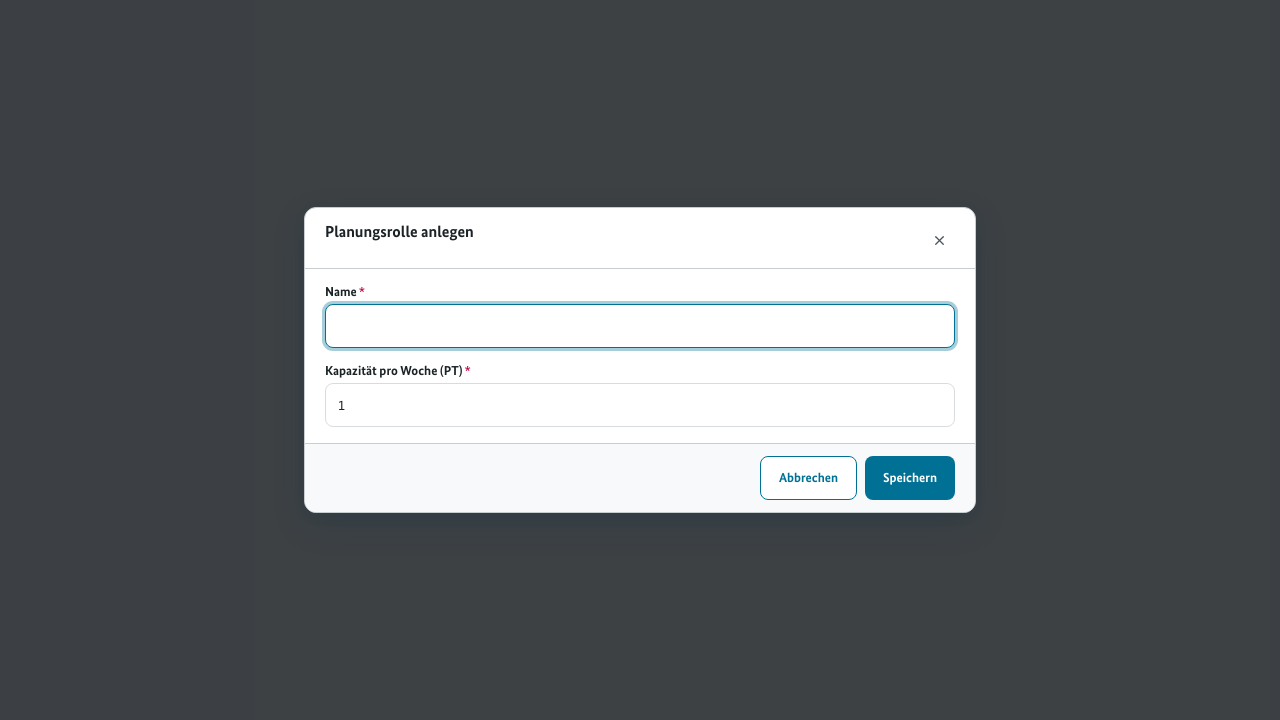
PlanningRoleFormDialog › shows server error when create mutation rejects
Check: the dialog is shown, box [304,207,976,513]
Type "Unique Role" into the field labelled "Name*" at (640, 326), box [325,304,955,348]
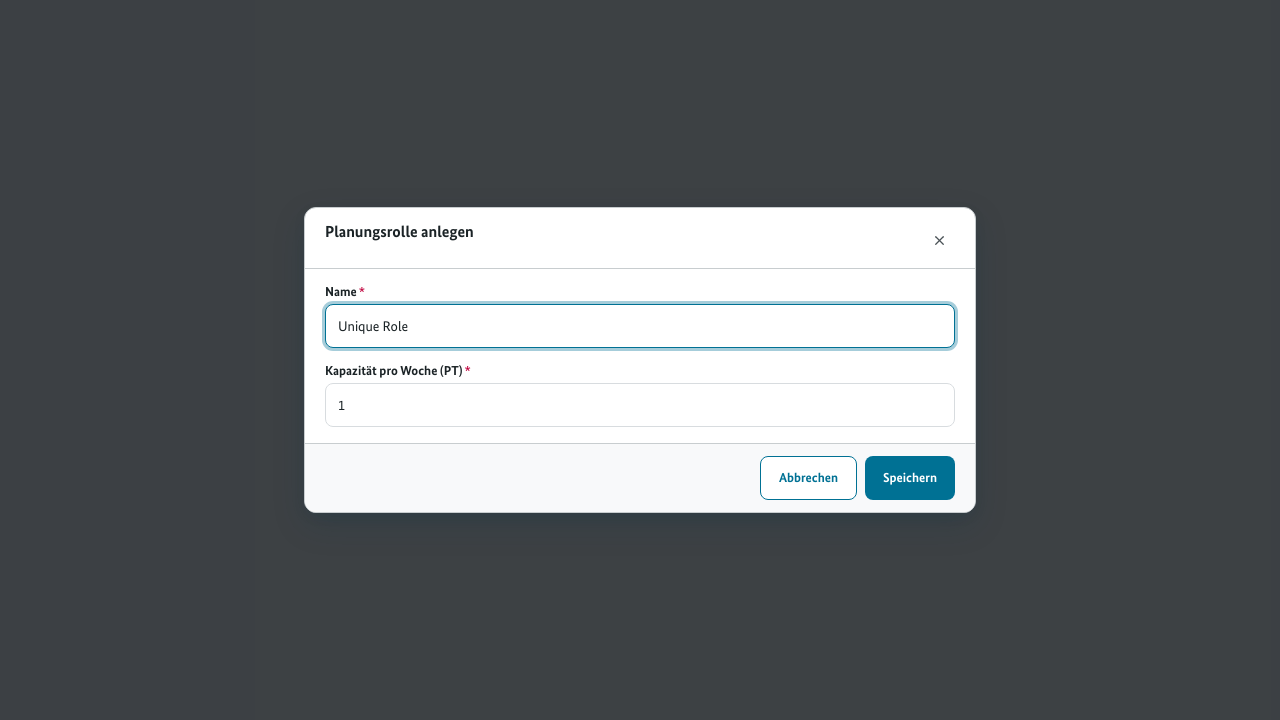
Click the button "Speichern" at (910, 478), box [865,456,955,500]
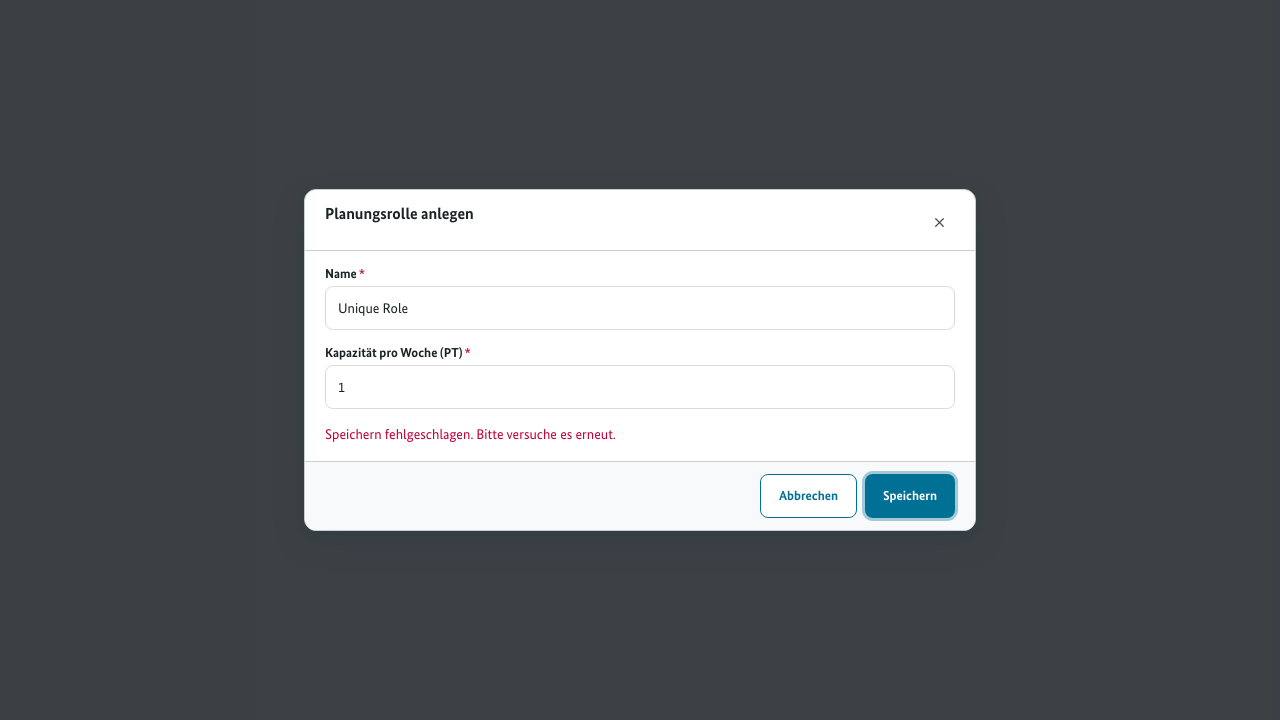
Check: the text "Speichern fehlgeschlagen. Bitte versuche es erneut." is shown, box [325,426,616,443]
